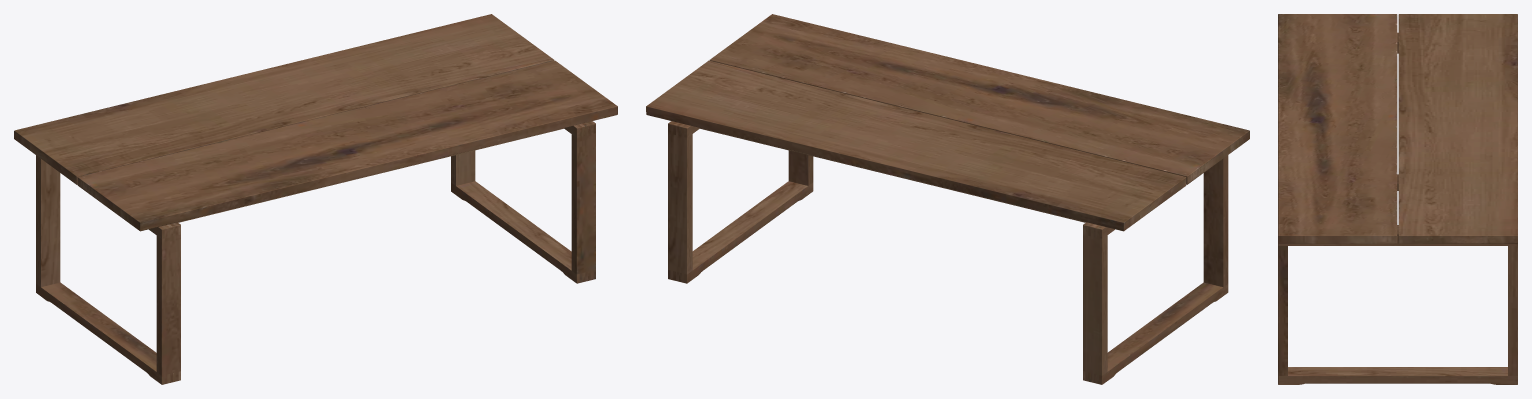
3 views of the same model, side by side, from view 1: azimuth 30°, elevation 25°; view 2: azimuth 150°, elevation 25°; view 3: azimuth 270°, elevation 25° (orthographic). The views are drawn at different scales.
Visible parts, largest first — view 1: Mesh_0; view 2: Mesh_0; view 3: Mesh_0.
Part boxes in pixels (bbox=[...]): Mesh_0: bbox=[14, 14, 617, 384]; Mesh_0: bbox=[646, 14, 1249, 384]; Mesh_0: bbox=[1278, 14, 1517, 384].
Size of the model in its own units: 2.2 by 0.7383 by 1.01.
1 material, 1 textured.
